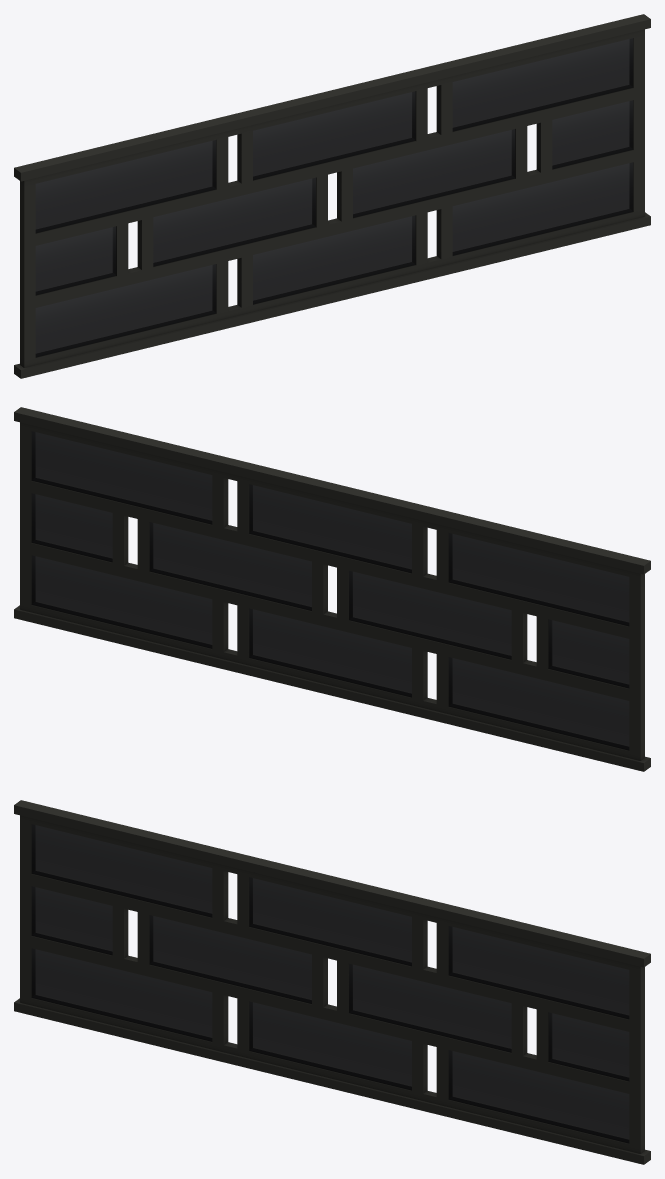
Rendered from glass-gate-horizontal.glb.
The picture shows the model from 3 angles, top to bottom: view 1: azimuth 30°, elevation 25°; view 2: azimuth 150°, elevation 25°; view 3: azimuth 330°, elevation 25°; orthographic projection.
Parts seen in each view (by area): view 1: Glass, Frame, Gasket; view 2: Glass, Frame, Gasket; view 3: Glass, Frame, Gasket.
Part boxes in pixels (left/top/right/bottom): Glass: left=35, top=38, right=633, bottom=357; Frame: left=14, top=14, right=650, bottom=378; Gasket: left=36, top=85, right=632, bottom=356; Glass: left=31, top=431, right=629, bottom=750; Frame: left=14, top=407, right=650, bottom=771; Gasket: left=32, top=478, right=628, bottom=749; Glass: left=31, top=824, right=629, bottom=1143; Frame: left=14, top=800, right=650, bottom=1164; Gasket: left=32, top=871, right=628, bottom=1142.
Bounding box in the file's own units: 4.16 × 1.3 × 0.08.
3 materials, 2 textured.
